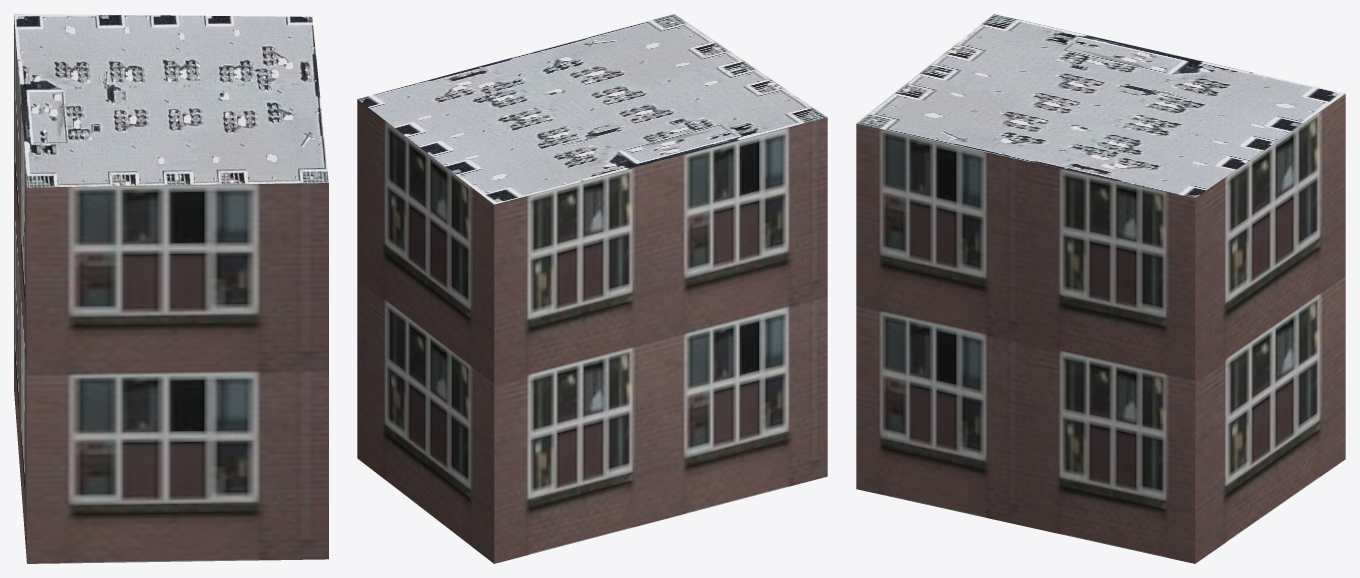
Rendered from ResTex__630.fbx.
The picture shows the model from 3 angles, left to right: view 1: azimuth 30°, elevation 25°; view 2: azimuth 150°, elevation 25°; view 3: azimuth 270°, elevation 25°; orthographic projection. The views are drawn at different scales.
Visible parts, largest first — view 1: CityEngineMaterial_12_m, CityEngineMaterial_8_m; view 2: CityEngineMaterial_12_m, CityEngineMaterial_8_m; view 3: CityEngineMaterial_12_m, CityEngineMaterial_8_m.
Boxes of the visible parts, <box> form: CityEngineMaterial_12_m: <box>14,16,328,563</box>; CityEngineMaterial_8_m: <box>14,14,328,187</box>; CityEngineMaterial_12_m: <box>357,99,827,563</box>; CityEngineMaterial_8_m: <box>357,14,826,204</box>; CityEngineMaterial_12_m: <box>856,94,1345,563</box>; CityEngineMaterial_8_m: <box>856,14,1345,198</box>.
Bounding box in the file's own units: 6.49 × 6 × 7.28.
2 materials, 2 textured.
